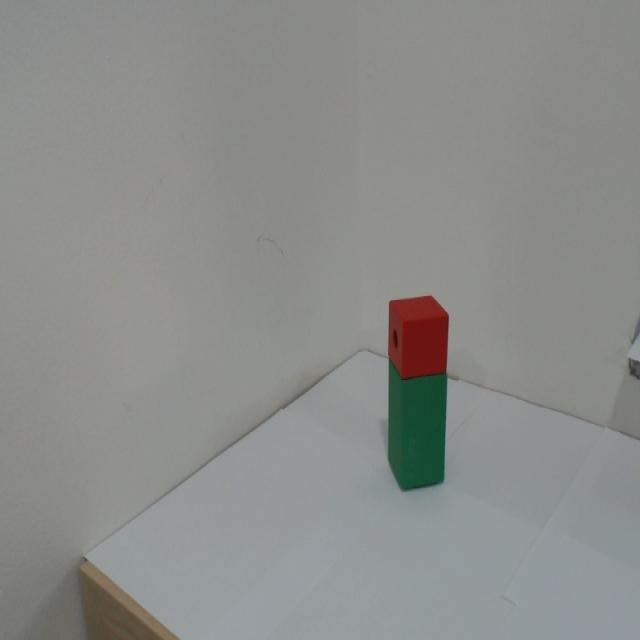cube: (378, 274, 463, 378)
